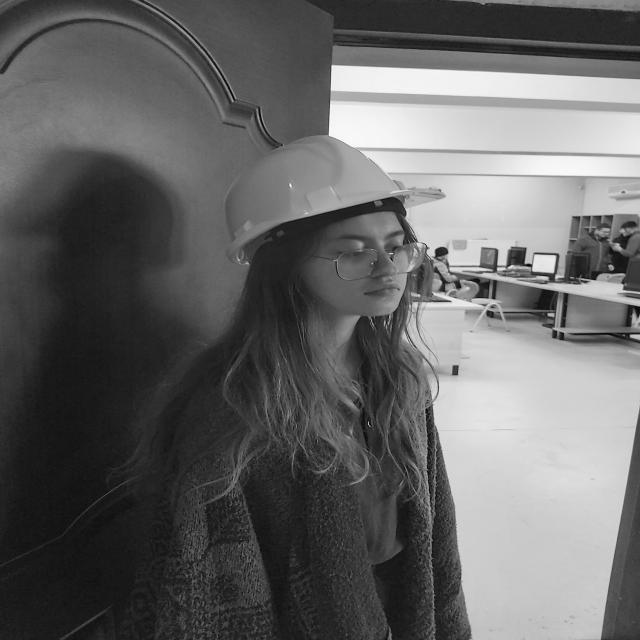safety_helmet: (225, 137, 410, 269)
